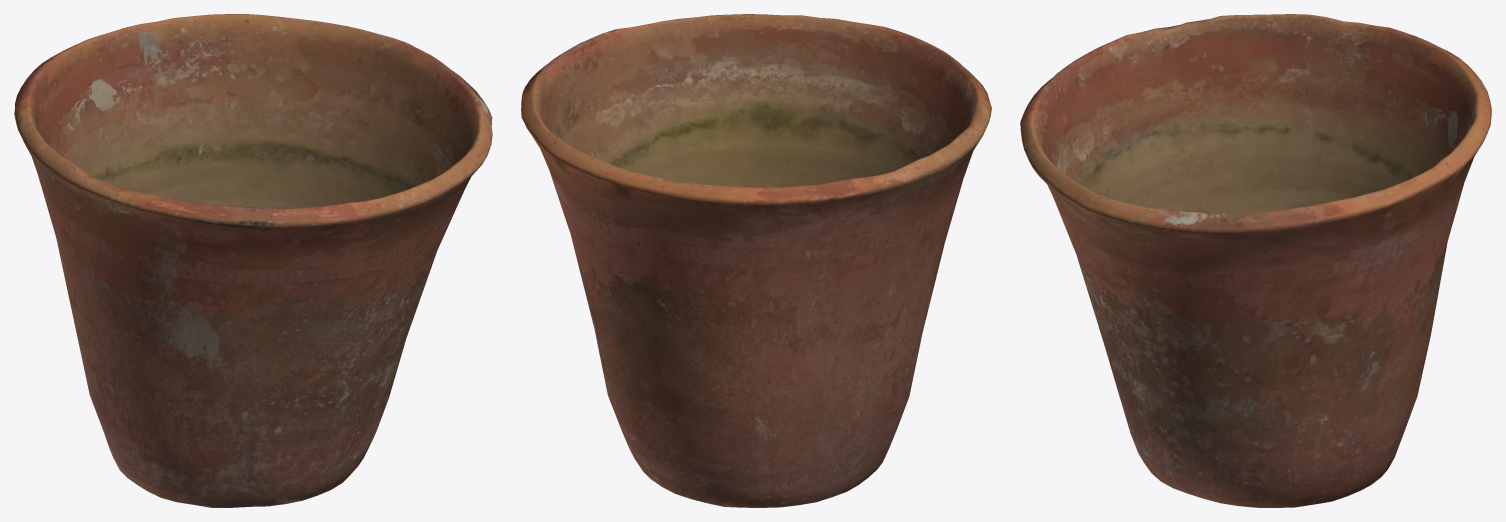
File: planter_pot_clay.glb
The picture shows the model from 3 angles, left to right: view 1: azimuth 30°, elevation 25°; view 2: azimuth 150°, elevation 25°; view 3: azimuth 270°, elevation 25°; orthographic projection.
Parts seen in each view (by area): view 1: planter_pot_clay; view 2: planter_pot_clay; view 3: planter_pot_clay.
Boxes of the visible parts, box(x1,y1,x2,y2) form: planter_pot_clay: box(14, 14, 492, 507); planter_pot_clay: box(521, 14, 991, 507); planter_pot_clay: box(1020, 14, 1491, 507).
Size of the model in its own units: 0.266 by 0.2219 by 0.2635.
1 material, 1 textured.
